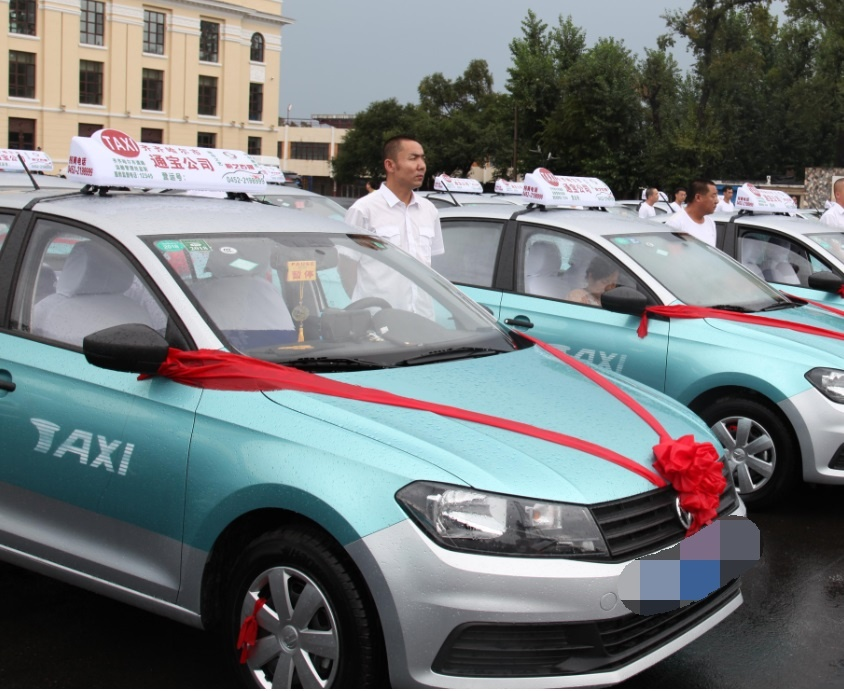taxi: (1, 168, 758, 691)
